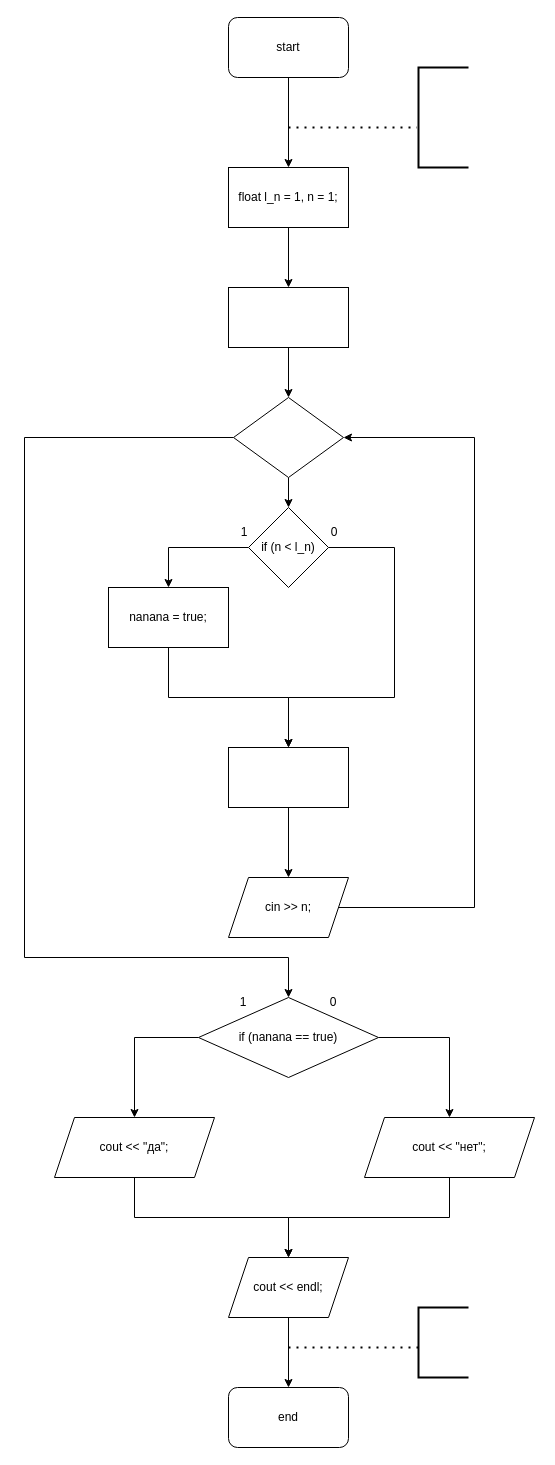
The diagram is 555 pixels wide and 1465 high, and some of its shapes have lost their labels. Here are the shapes that lost their labels. From the top down, the box of each, then its label:
(417, 66, 469, 168): #include <iostream> using namespace std; int main ()
(228, 286, 348, 348): bool nanana = false;
(232, 396, 344, 478): while (n != 0)
(228, 746, 348, 808): l_n = n;
(417, 1306, 469, 1378): return 0;
